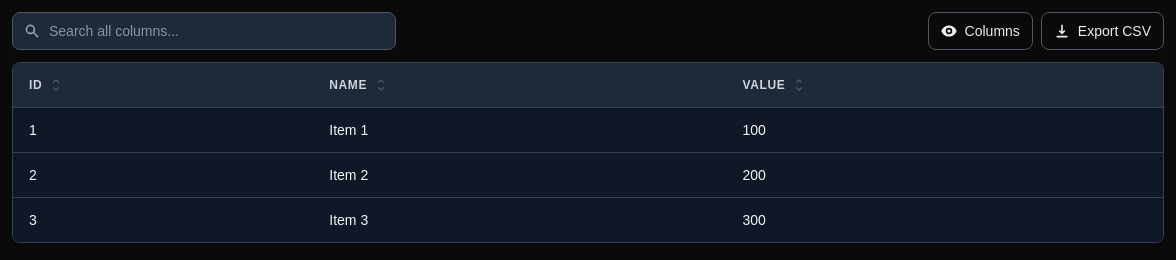
Complex Widgets › AdvancedTable › filters data
Type "Item 1" into the field with placeholder "Search all columns...".
click(204, 31); type("Item 1")  # box [12,12,396,50]
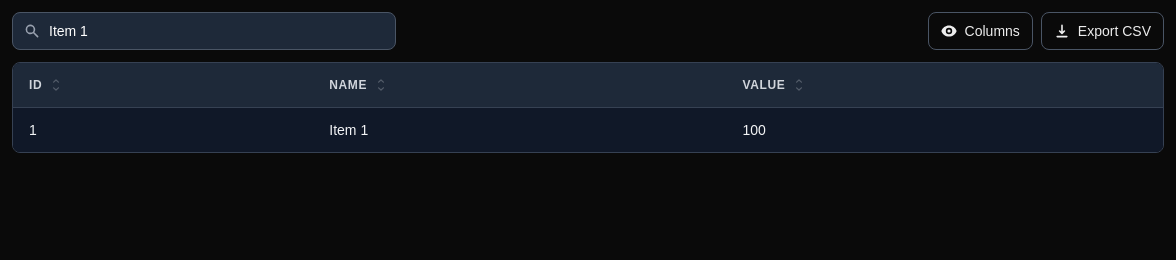
Expected: the text "Item 1" is shown, [329,122,368,138]
Expected: the text "Item 2" is gone
